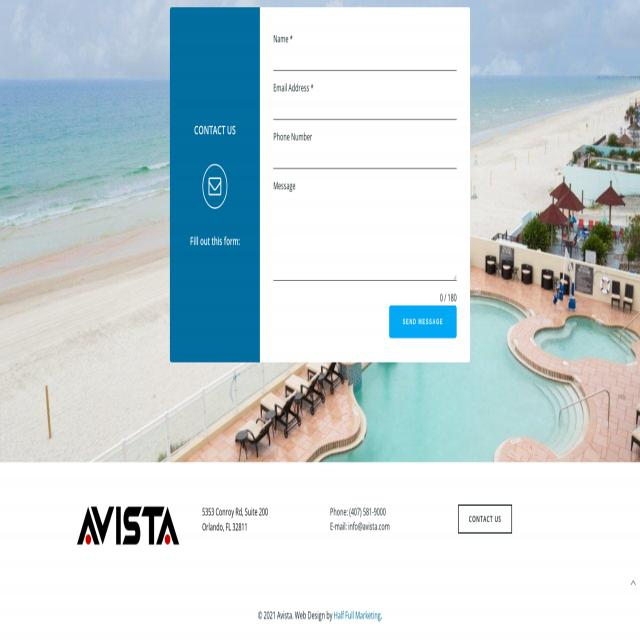button: (76, 504, 180, 547), (389, 306, 457, 338), (458, 504, 512, 534), (202, 163, 228, 211), (630, 577, 636, 589)
field: (273, 49, 457, 71), (273, 98, 457, 119), (273, 147, 457, 168)
